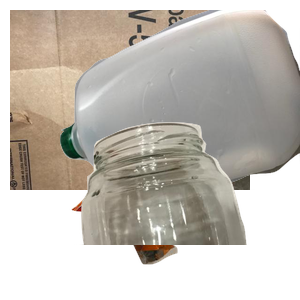cardboard: (10, 10, 250, 190)
glass: (74, 120, 300, 300)
plastic: (60, 10, 300, 190)
trash: (69, 153, 239, 300)
